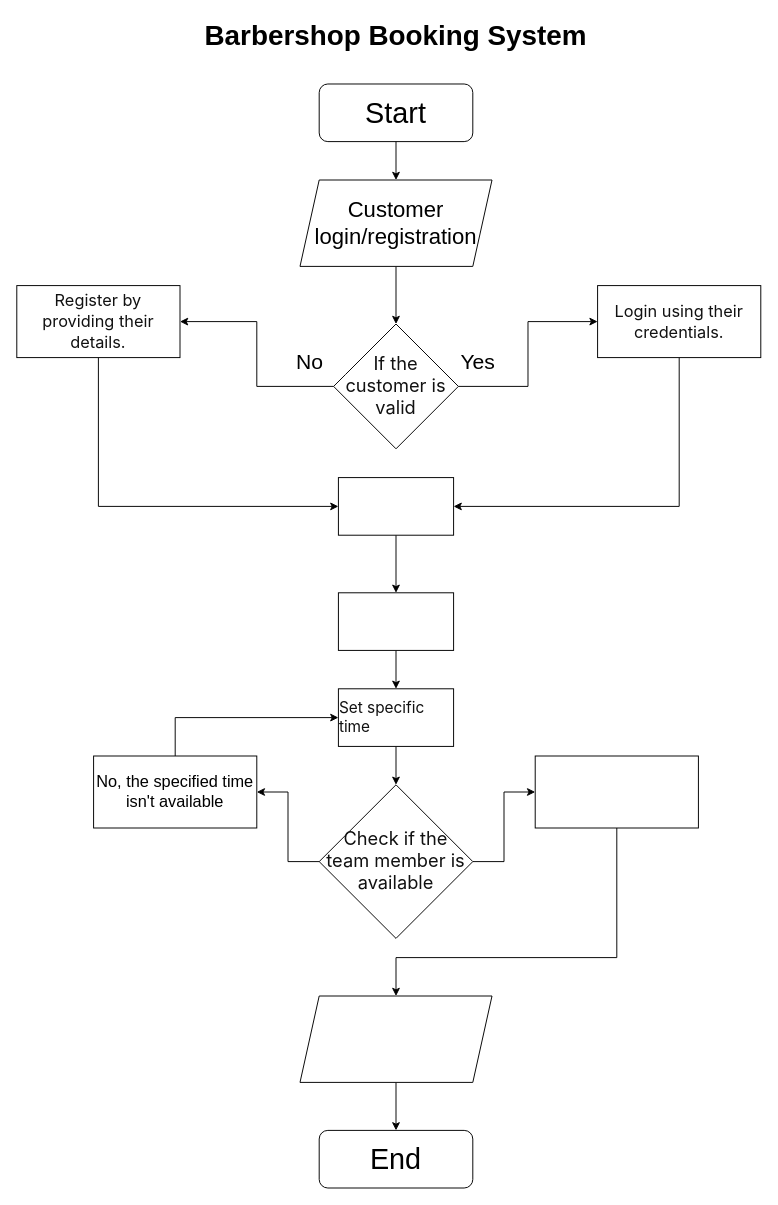
Some shapes in this 778 by 1205 pixel diagram are drawn without their labels. The centre of each missing label's shape, as x and y in pixels:
selected service: (395,621)
The appointment has been booked: (395,1038)
View available services: (395,506)
Yes, the specified time is available: (616,791)
